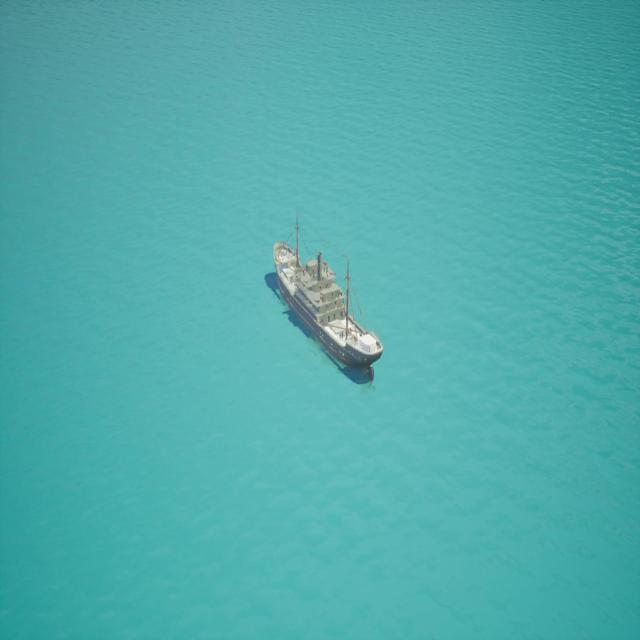fishing ship: (265, 235, 383, 384)
